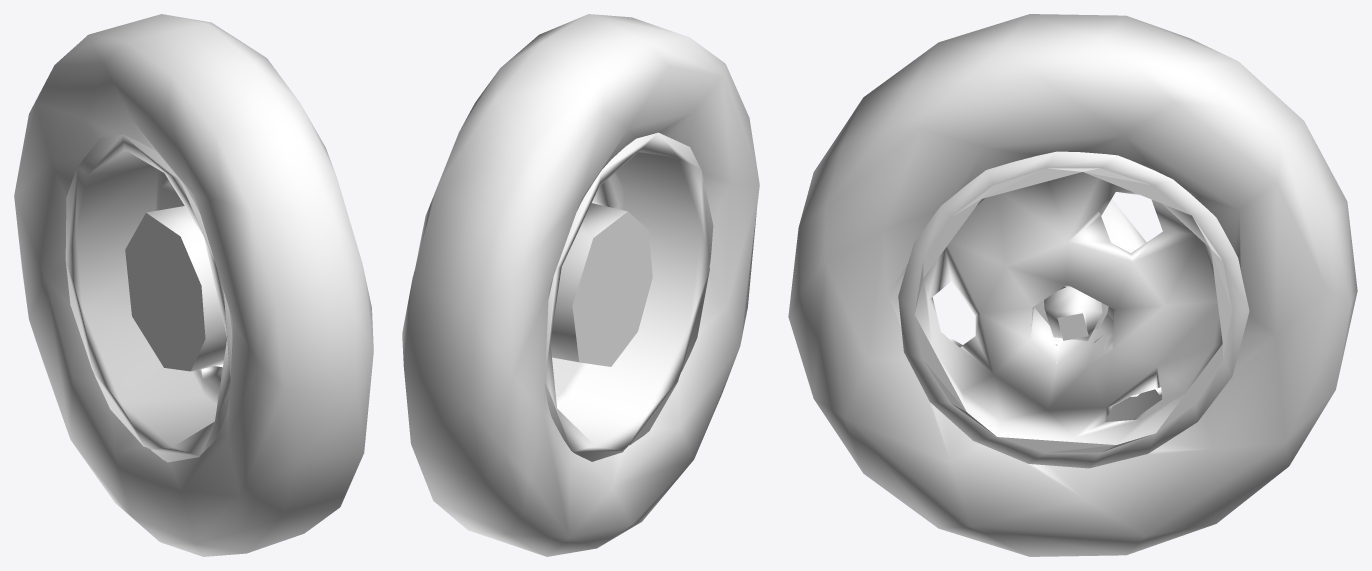
3 views of the same model, side by side, from view 1: azimuth 30°, elevation 25°; view 2: azimuth 150°, elevation 25°; view 3: azimuth 270°, elevation 25° (orthographic). The views are drawn at different scales.
Size of the model in its own units: 0.3158 by 1.05 by 1.06.
Materials: 1 (1 with a texture image).
